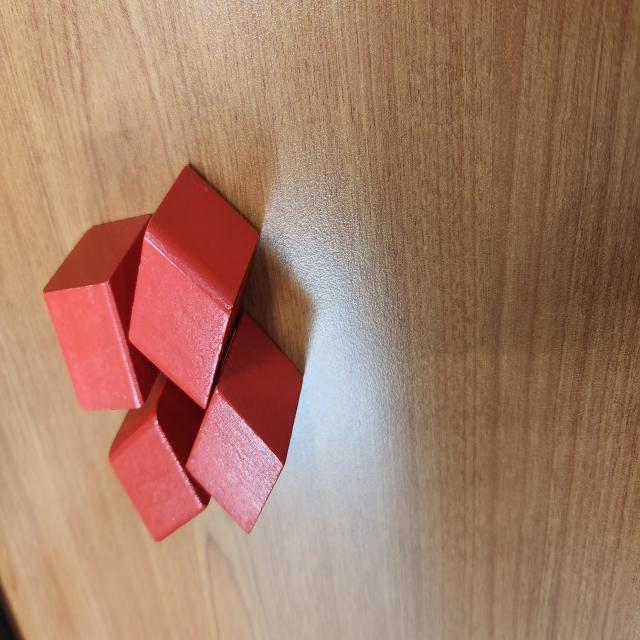red: (126, 164, 261, 411), (183, 310, 303, 534), (42, 214, 161, 411), (108, 367, 216, 543)
